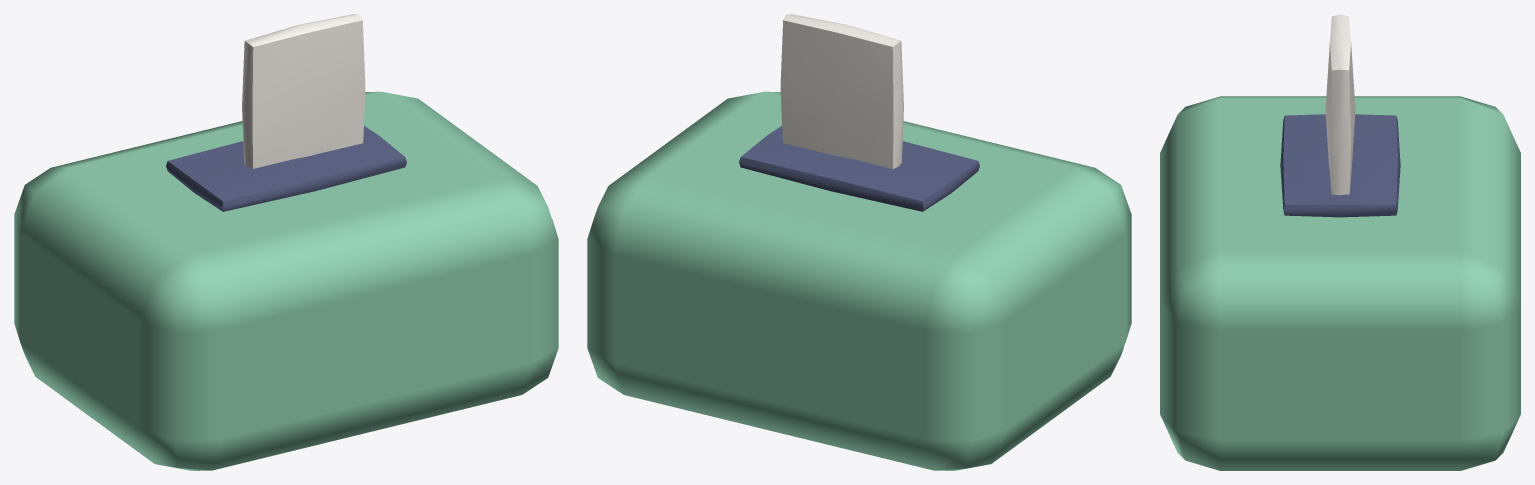
Rendered from tissue-box.glb.
The picture shows the model from 3 angles, left to right: view 1: azimuth 30°, elevation 25°; view 2: azimuth 150°, elevation 25°; view 3: azimuth 270°, elevation 25°; orthographic projection.
Parts seen in each view (by area): view 1: part (×3); view 2: part (×3); view 3: part (×3).
Boxes of the visible parts, x1,y1,x2,y2 form: part (×3): (14, 14, 558, 470); part (×3): (587, 14, 1131, 470); part (×3): (1160, 14, 1520, 470).
Size of the model in its own units: 0.24 by 0.2 by 0.18.
1 material, 1 textured.
